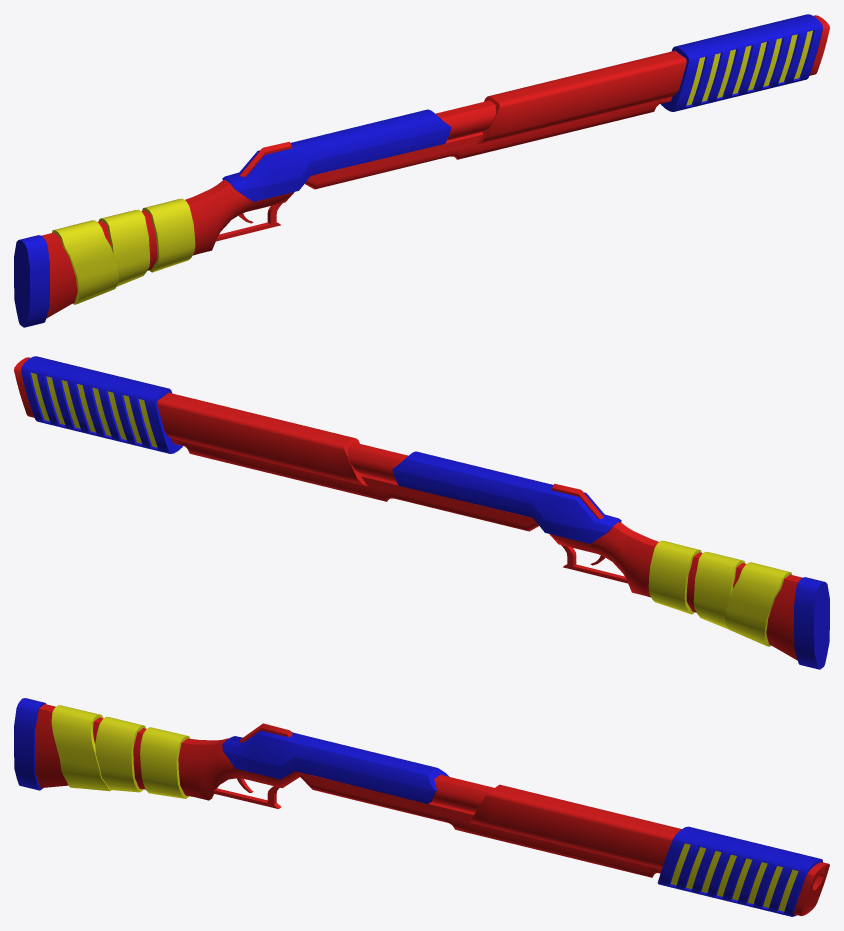
File: AtelierLogicShotgun.fbx
3 renders of one model, top to bottom at view 1: azimuth 30°, elevation 25°; view 2: azimuth 150°, elevation 25°; view 3: azimuth 330°, elevation 25°, orthographic.
Parts seen in each view (by area): view 1: Atelier Logic - Shotgun; view 2: Atelier Logic - Shotgun; view 3: Atelier Logic - Shotgun.
Part boxes in pixels (<box>): Atelier Logic - Shotgun: <box>14,14,829,327</box>; Atelier Logic - Shotgun: <box>14,356,829,669</box>; Atelier Logic - Shotgun: <box>14,698,829,916</box>.
Size of the model in its own units: 99.07 by 14.18 by 4.06.
